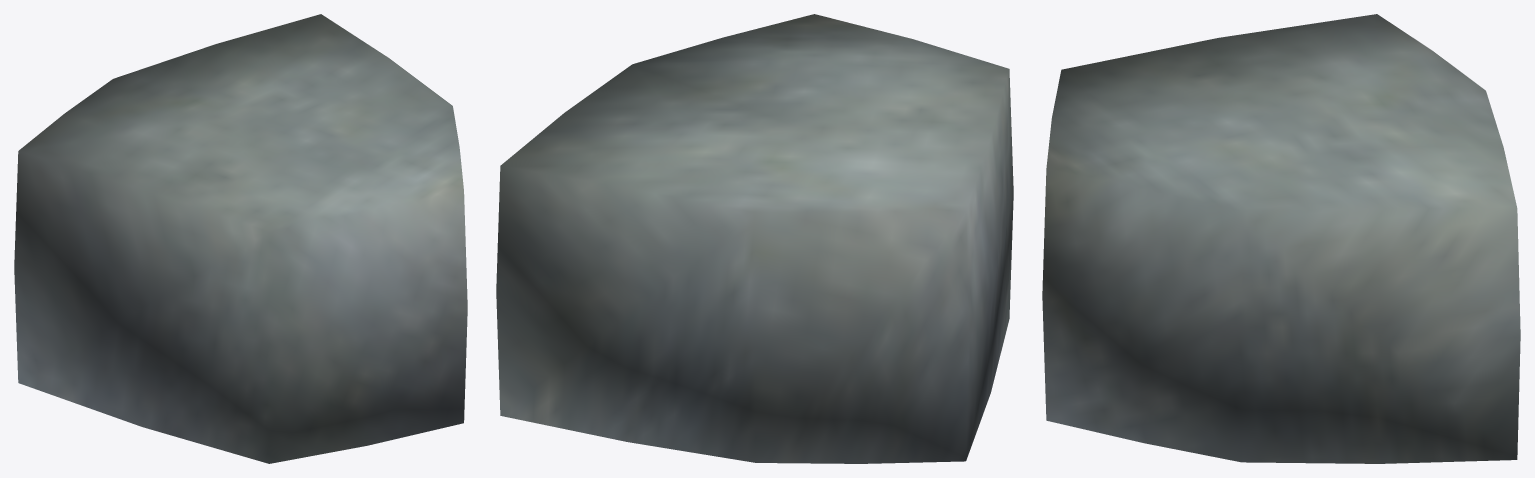
File: rocks_005.fbx
3 views of the same model, side by side, from view 1: azimuth 30°, elevation 25°; view 2: azimuth 150°, elevation 25°; view 3: azimuth 270°, elevation 25° (orthographic). The views are drawn at different scales.
Visible parts, largest first — view 1: rocks.005; view 2: rocks.005; view 3: rocks.005.
Part boxes in pixels (x1,y1,x2,y2): rocks.005: (14,14,467,463); rocks.005: (496,14,1013,463); rocks.005: (1042,14,1520,463).
Bounding box in the file's own units: 36.27 × 22.96 × 36.49.
